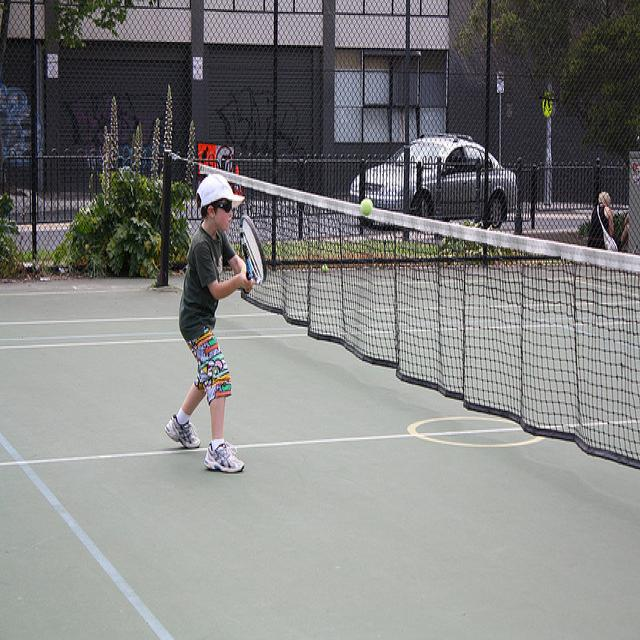Vehicle: (349, 130, 517, 229)
